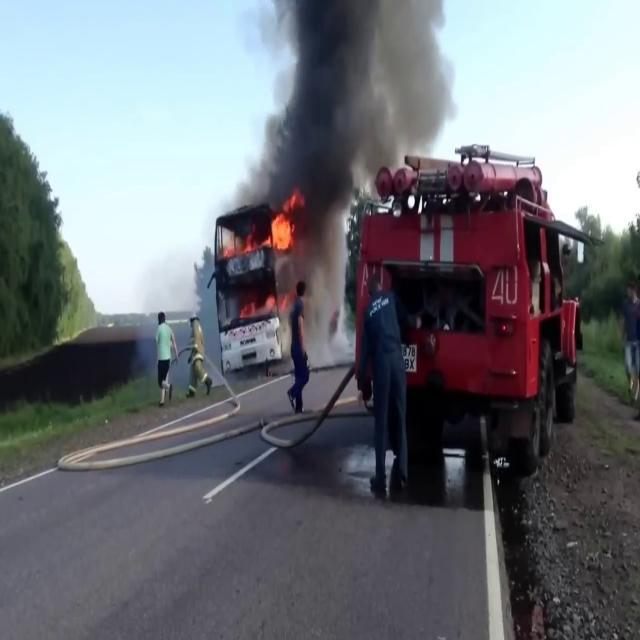Fire: (265, 204, 299, 258)
Smoke: (236, 0, 458, 212)
